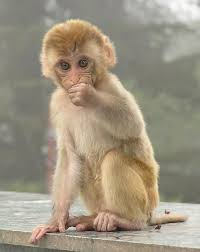monkey: (6, 7, 173, 228)
